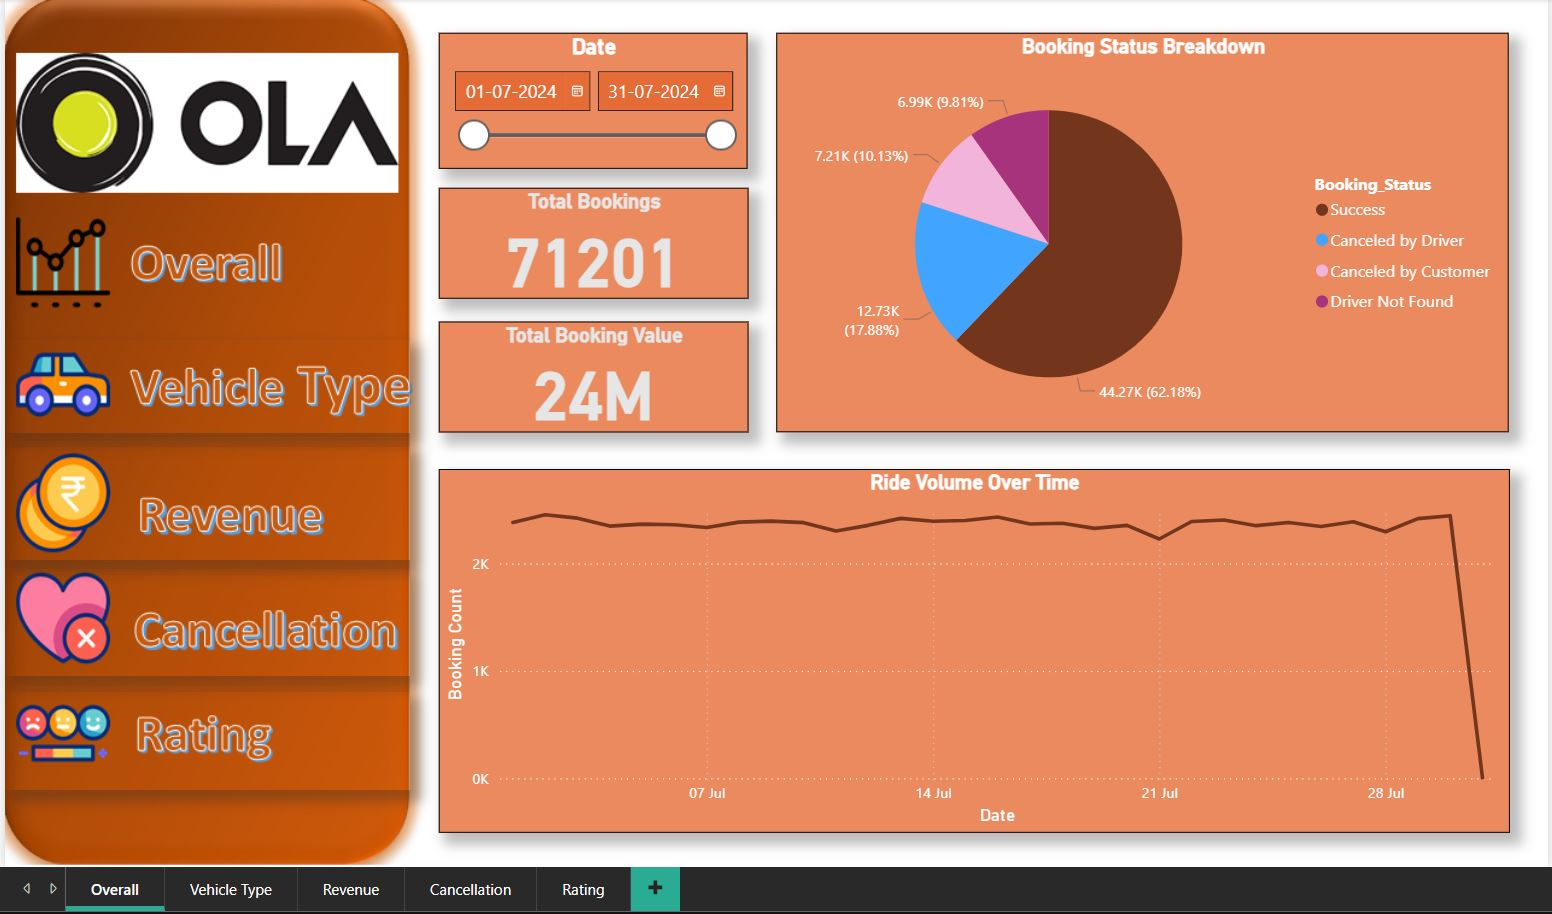

The page's visual inventory and layout, read from the dashboard file:
{"tool":"powerbi","page":{"name":"Overall","canvas":[1280,720],"ordinal":0},"visuals":[{"type":"actionButton","box":[0,282.4,335.7,77.1],"z":0},{"type":"actionButton","box":[0,370.9,335.7,94.1],"z":1000},{"type":"actionButton","box":[0,473,335.7,88.5],"z":2000},{"type":"actionButton","box":[0,573.9,335.7,81.7],"z":3000},{"type":"lineChart","title":"Ride Volume Over Time","fields":{"Category":["Booking.Date"],"Y":["CountNonNull(Booking.Booking_ID)"]},"box":[359.4,389.3,887.7,301.6],"z":4000},{"type":"pieChart","title":"Booking Status Breakdown ","fields":{"Y":["CountNonNull(Booking.Booking_ID)"],"Category":["Booking.Booking_Status"]},"box":[639.6,27.8,607.5,331.6],"z":5000},{"type":"slicer","title":"Date","fields":{"Values":["Booking.Date"]},"box":[359.4,27.8,256.7,113.4],"z":6000},{"type":"card","title":"Total Bookings","fields":{"Values":["CountNonNull(Booking.Booking_ID)"]},"box":[359.4,156.2,256.7,92],"z":7000},{"type":"card","title":"Total Booking Value ","fields":{"Values":["Sum(Booking.Booking_Value)"]},"box":[359.4,267.4,256.7,92],"z":8000}]}

Visuals, with their boxes on the page's 1280x720 design canvas (x1, y1, x2, y2). These are canvas units, not pixel positions in the 1552x914 screenshot, which may show the page scaled, cropped or inside an application window:
actionButton: region(0, 282, 336, 360)
actionButton: region(0, 371, 336, 465)
actionButton: region(0, 473, 336, 562)
actionButton: region(0, 574, 336, 656)
"Ride Volume Over Time" lineChart: region(359, 389, 1247, 691)
"Booking Status Breakdown " pieChart: region(640, 28, 1247, 359)
"Date" slicer: region(359, 28, 616, 141)
"Total Bookings" card: region(359, 156, 616, 248)
"Total Booking Value " card: region(359, 267, 616, 359)
